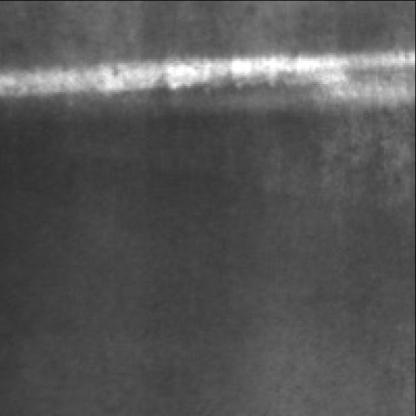scratches: (4, 44, 416, 102)
